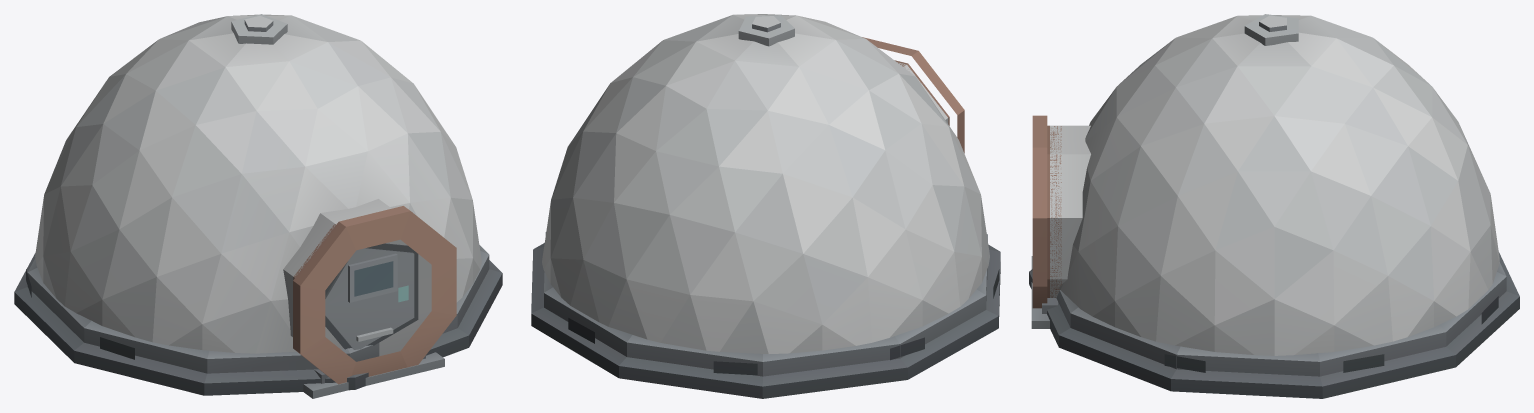
File: dome.lod1.glb
The picture shows the model from 3 angles, left to right: view 1: azimuth 30°, elevation 25°; view 2: azimuth 150°, elevation 25°; view 3: azimuth 270°, elevation 25°; orthographic projection.
Bounding box in the file's own units: 11.99 × 7.5 × 12.14.
